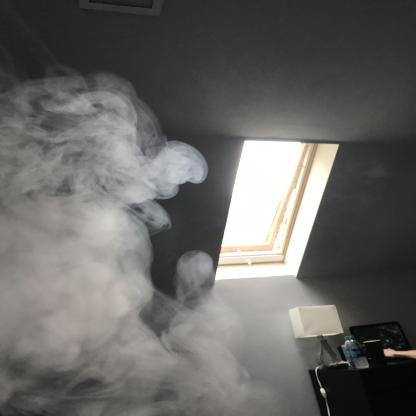smoke: (4, 59, 298, 416)
